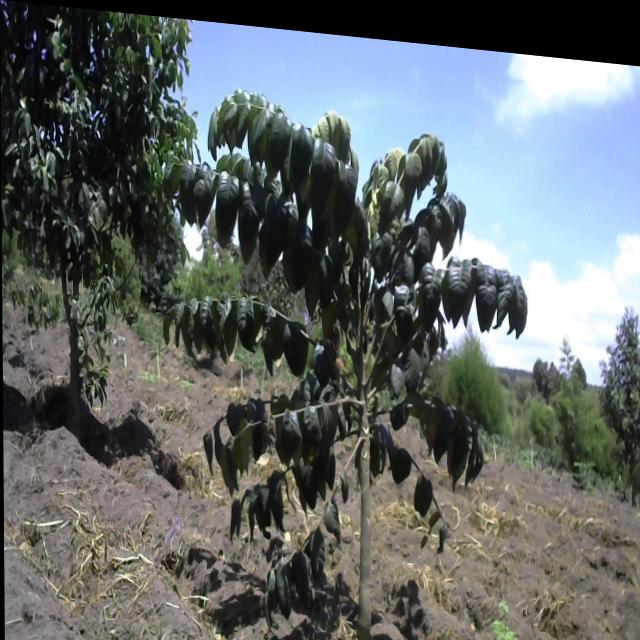Hass Avocado: (3, 2, 207, 447)
Lemon Myrtle: (600, 275, 640, 463)
Polyscias fulva: (169, 56, 538, 640)
cedrus: (544, 313, 614, 472), (450, 304, 513, 433)
